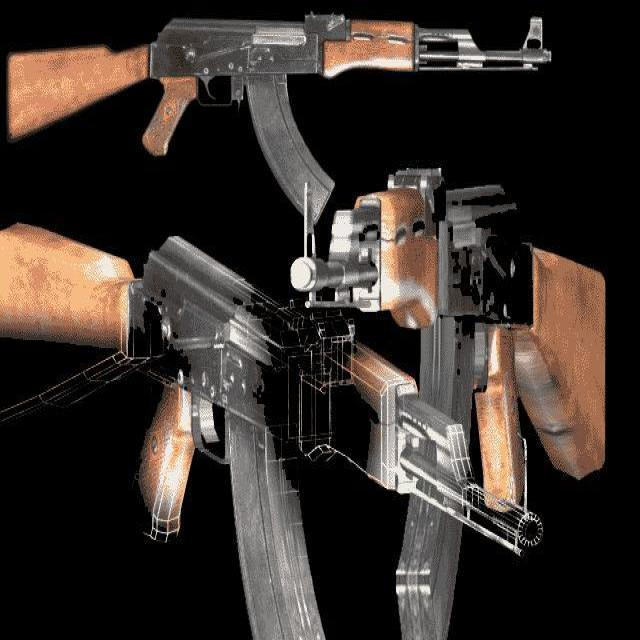Gun: (19, 202, 563, 588), (9, 14, 566, 160)
